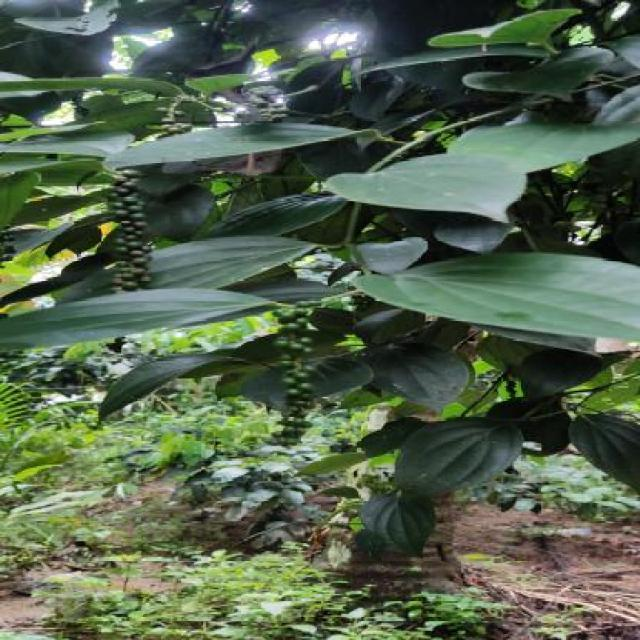UNRIPE: (270, 301, 321, 436), (110, 170, 153, 293), (250, 89, 290, 120), (151, 105, 187, 138)
